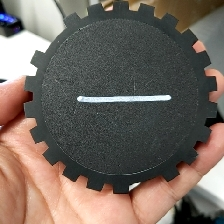gear: (22, 1, 220, 195)
missing: (30, 11, 82, 71), (111, 163, 181, 196)
